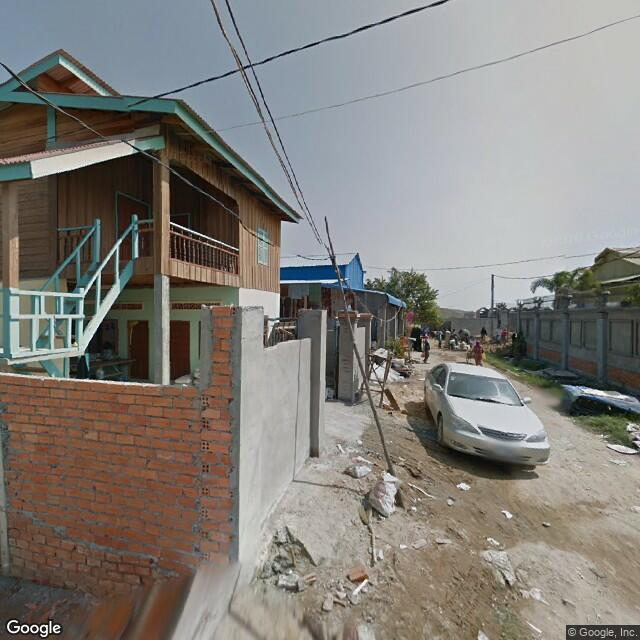litter: (469, 543, 522, 591), (347, 566, 381, 617), (370, 466, 399, 516), (273, 564, 309, 591), (349, 456, 378, 487), (316, 590, 342, 614), (497, 507, 525, 518), (456, 474, 471, 493)
